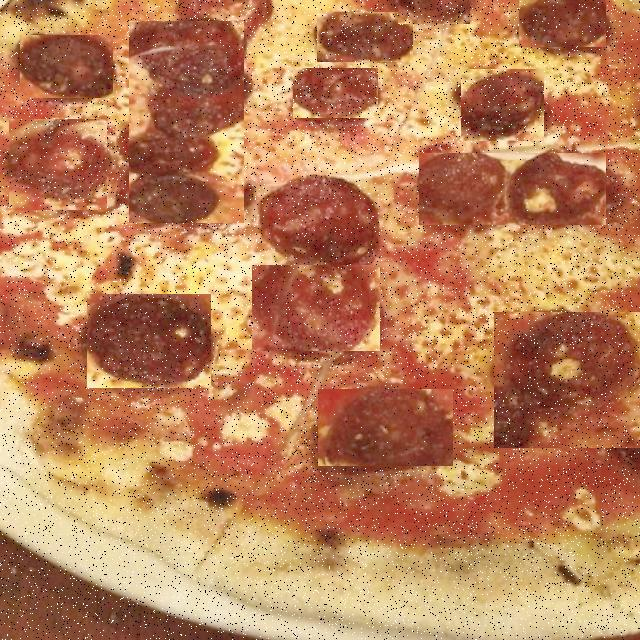Pepperoni: (129, 21, 244, 223), (494, 312, 640, 448), (419, 153, 606, 225), (87, 294, 211, 388), (252, 265, 380, 351), (318, 390, 453, 468), (265, 172, 368, 264), (9, 119, 107, 210), (461, 69, 544, 141), (20, 35, 113, 98), (317, 12, 413, 62), (293, 68, 378, 118), (519, 0, 606, 47), (398, 0, 470, 24)
